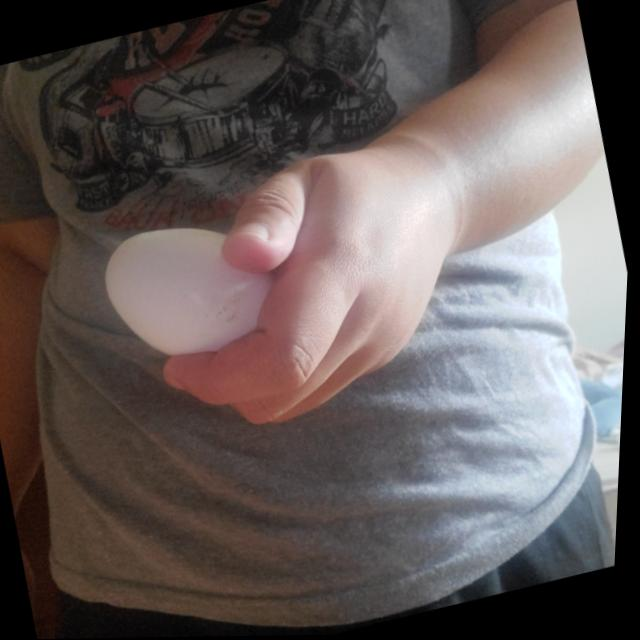egg: (97, 206, 288, 367)
